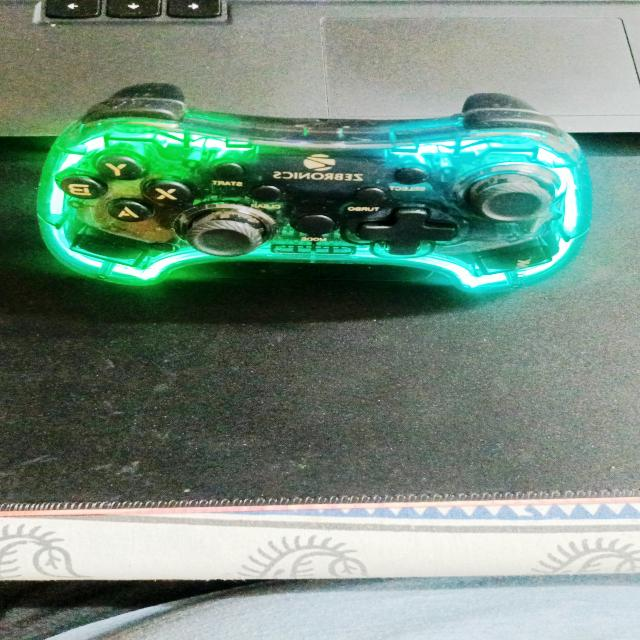gamepad: (35, 82, 595, 294)
